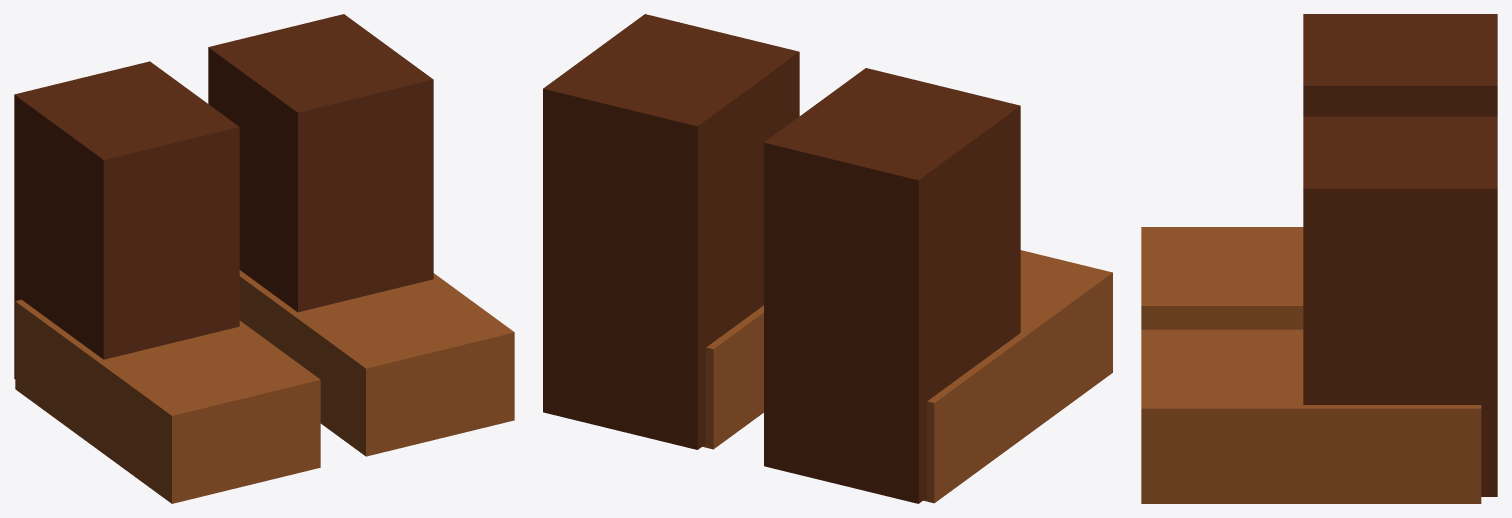
File: adventurer_boots.obj
The picture shows the model from 3 angles, left to right: view 1: azimuth 30°, elevation 25°; view 2: azimuth 150°, elevation 25°; view 3: azimuth 270°, elevation 25°; orthographic projection. The views are drawn at different scales.
Visible parts, largest first — view 1: models/equipment/adventurer_boots.obj; view 2: models/equipment/adventurer_boots.obj; view 3: models/equipment/adventurer_boots.obj.
Boxes of the visible parts, x1=… form: models/equipment/adventurer_boots.obj: x1=14, y1=14, x2=514, y2=503; models/equipment/adventurer_boots.obj: x1=543, y1=14, x2=1112, y2=503; models/equipment/adventurer_boots.obj: x1=1141, y1=14, x2=1497, y2=503.
Bounding box in the file's own units: 1.06 × 0.85 × 0.88.
